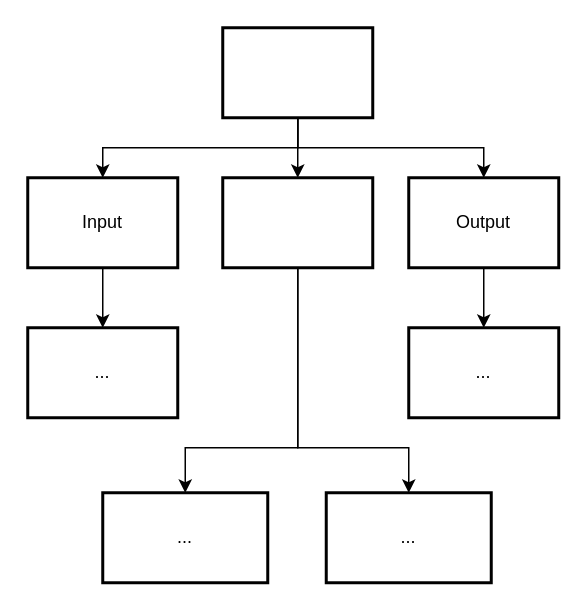
Image size: 585x609. Some labels were removed from this diagram. The shapes that lost their labels are listed below. From the top down, each one's centre as x and y in pixels, then its label:
At point (297, 72): "Title".
At point (297, 222): "Process".
